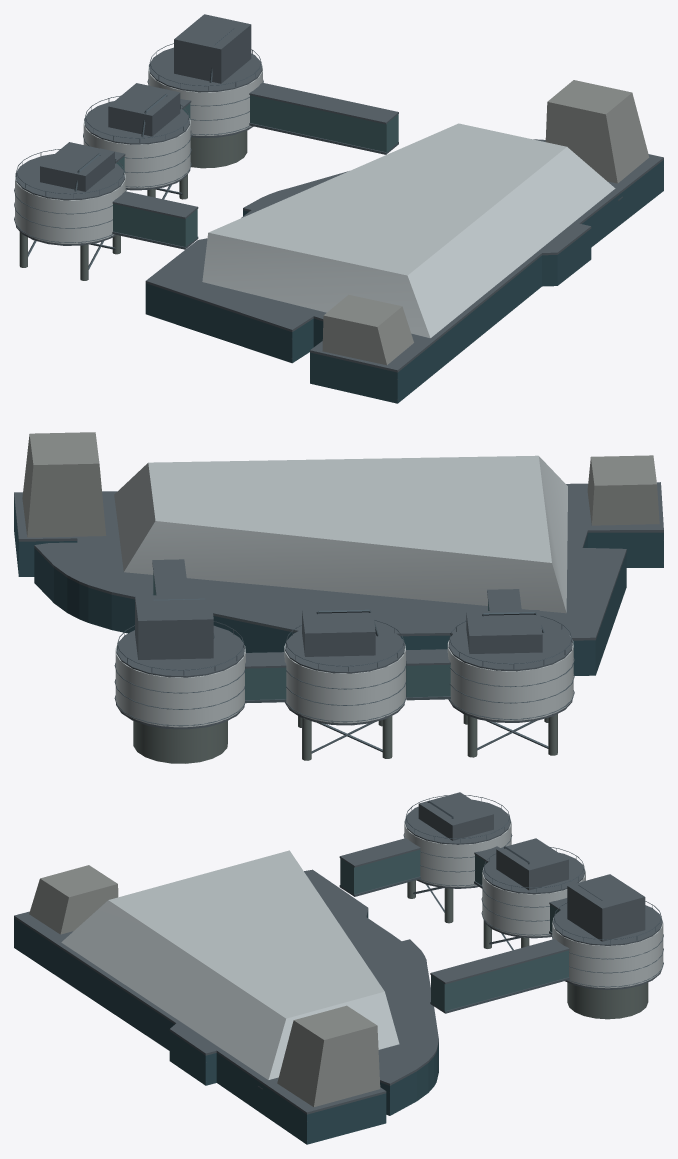
The model's file is norwegian-petroleum-museum-far.glb.
3 views of the same model, one above another, from view 1: azimuth 30°, elevation 25°; view 2: azimuth 150°, elevation 25°; view 3: azimuth 270°, elevation 25° (orthographic). The views are drawn at different scales.
Visible parts, largest first — view 1: norwegian-petroleum-museum-0-silver, norwegian-petroleum-museum-0-roof, norwegian-petroleum-museum-0-glass, norwegian-petroleum-museum-0-stone, norwegian-petroleum-museum-0-light, norwegian-petroleum-museum-0-steel, norwegian-petroleum-museum-0-concrete; view 2: norwegian-petroleum-museum-0-silver, norwegian-petroleum-museum-0-roof, norwegian-petroleum-museum-0-stone, norwegian-petroleum-museum-0-glass, norwegian-petroleum-museum-0-concrete, norwegian-petroleum-museum-0-steel, norwegian-petroleum-museum-0-light; view 3: norwegian-petroleum-museum-0-silver, norwegian-petroleum-museum-0-roof, norwegian-petroleum-museum-0-glass, norwegian-petroleum-museum-0-stone, norwegian-petroleum-museum-0-light, norwegian-petroleum-museum-0-concrete, norwegian-petroleum-museum-0-steel.
Part boxes in pixels (x1,y1,x2,y2): norwegian-petroleum-museum-0-silver: (15,64,615,338); norwegian-petroleum-museum-0-roof: (15,14,663,372); norwegian-petroleum-museum-0-glass: (145,160,663,403); norwegian-petroleum-museum-0-stone: (322,80,649,365); norwegian-petroleum-museum-0-light: (113,95,398,246); norwegian-petroleum-museum-0-steel: (14,28,663,399); norwegian-petroleum-museum-0-concrete: (19,130,247,280); norwegian-petroleum-museum-0-silver: (114,455,573,727); norwegian-petroleum-museum-0-roof: (14,482,663,729); norwegian-petroleum-museum-0-stone: (22,432,659,537); norwegian-petroleum-museum-0-glass: (14,497,663,675); norwegian-petroleum-museum-0-concrete: (133,714,557,763); norwegian-petroleum-museum-0-steel: (114,540,663,753); norwegian-petroleum-museum-0-light: (153,573,489,699); norwegian-petroleum-museum-0-silver: (61,817,663,1079); norwegian-petroleum-museum-0-roof: (14,792,662,1114); norwegian-petroleum-museum-0-glass: (14,911,438,1144); norwegian-petroleum-museum-0-stone: (29,865,380,1106); norwegian-petroleum-museum-0-light: (340,849,568,1010); norwegian-petroleum-museum-0-concrete: (407,880,648,1019); norwegian-petroleum-museum-0-steel: (14,795,663,1140).
Bounding box in the file's own units: 86.18 × 17.25 × 89.02.
